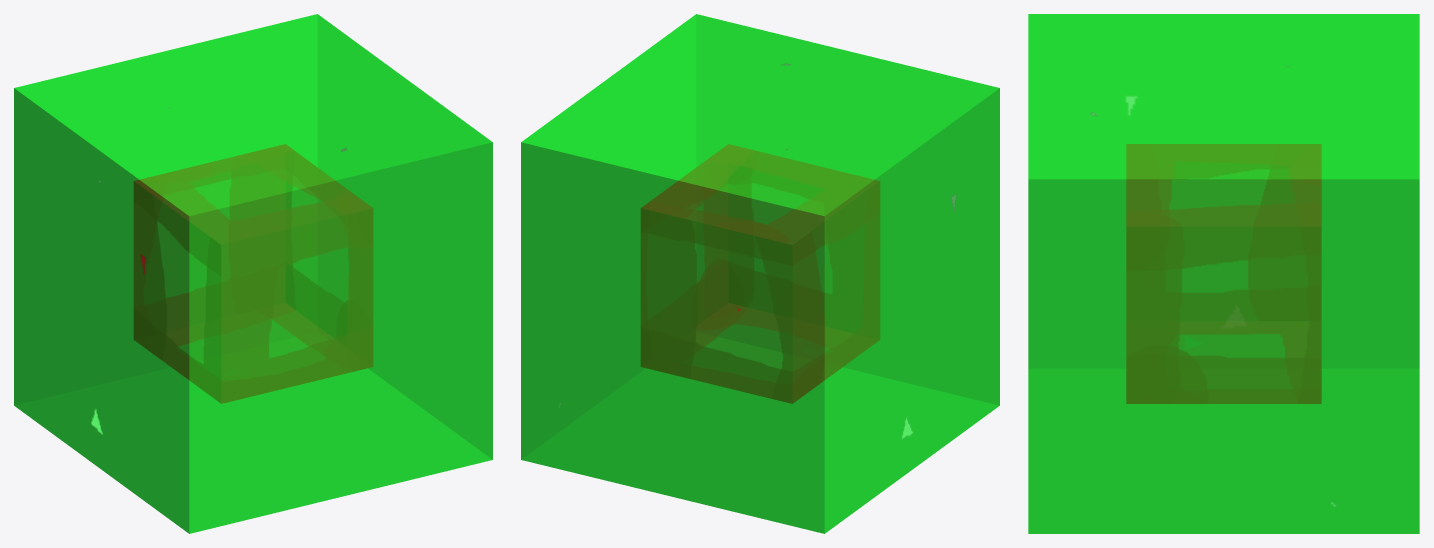
File: ClearBox.gltf
3 views of the same model, side by side, from view 1: azimuth 30°, elevation 25°; view 2: azimuth 150°, elevation 25°; view 3: azimuth 270°, elevation 25° (orthographic). The views are drawn at different scales.
Visible parts, largest first — view 1: Cube.001; view 2: Cube.001; view 3: Cube.001.
Part boxes in pixels (bbox=[...]): Cube.001: bbox=[14, 14, 492, 533]; Cube.001: bbox=[521, 14, 999, 533]; Cube.001: bbox=[1028, 14, 1419, 533].
Size of the model in its own units: 2 by 2 by 2.
Materials: 1 (1 with a texture image).
